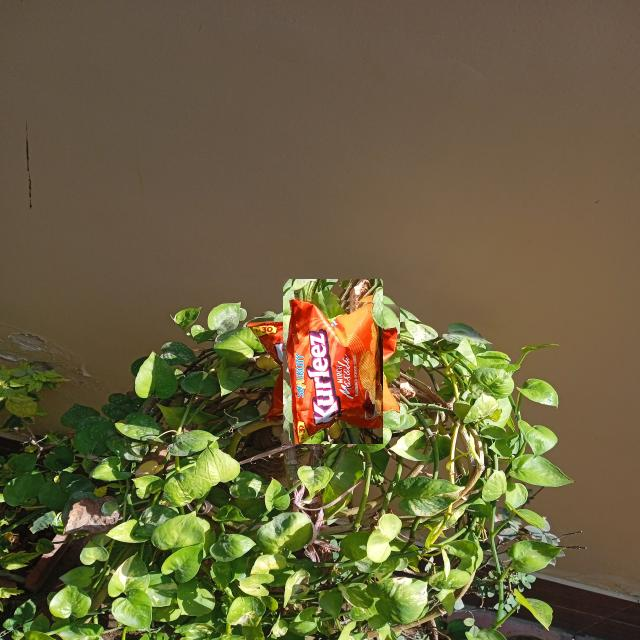Plastic: (267, 294, 400, 428)
